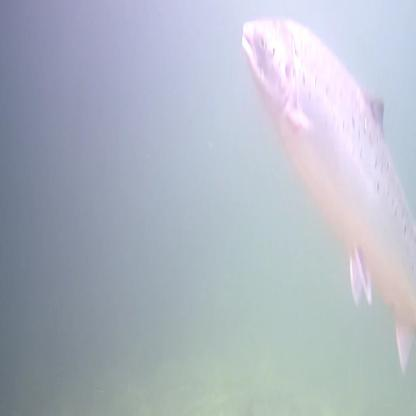salmon: (238, 8, 416, 380)
